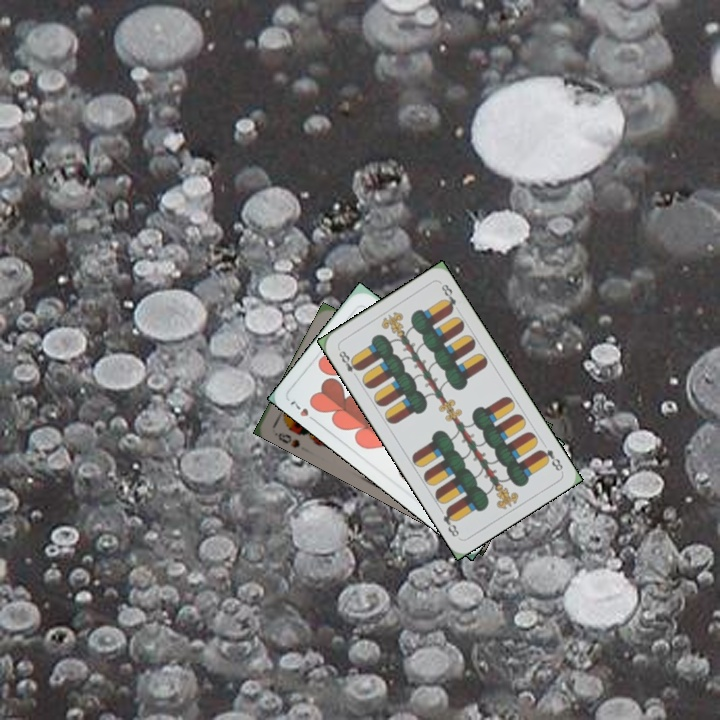E8: (334, 344, 363, 381), (535, 445, 566, 474)
H7: (286, 397, 320, 425)
S8: (270, 428, 302, 450)
